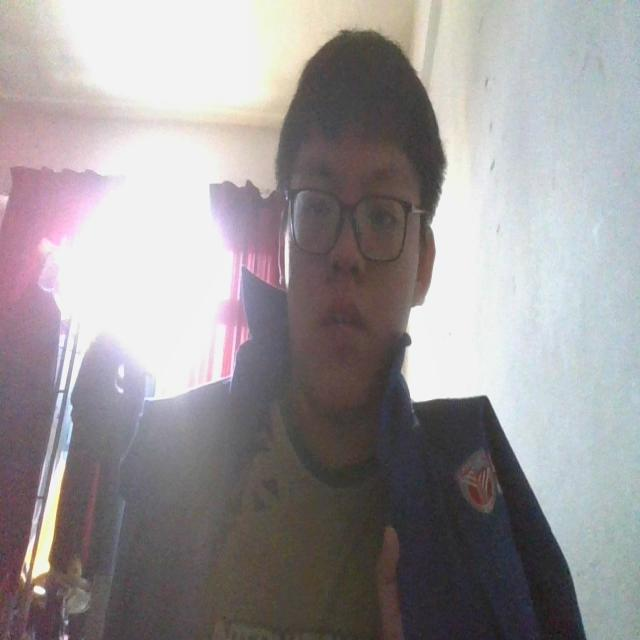person_without_labcoat: (104, 31, 584, 639)
